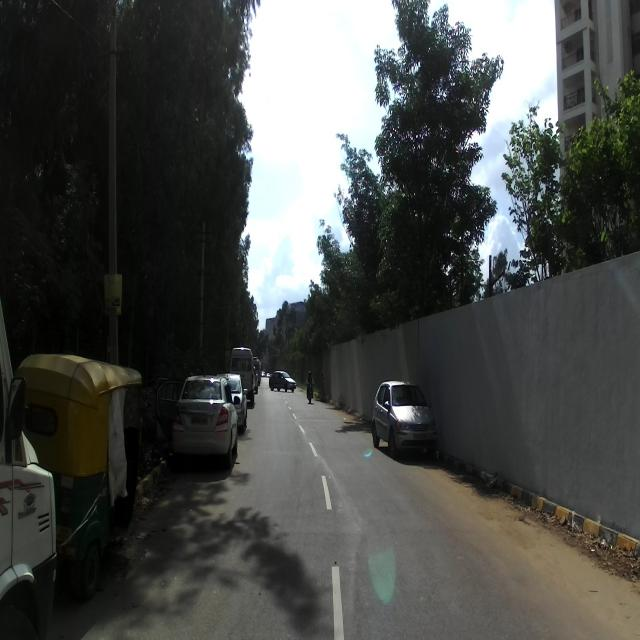Car_Maruti-Suzuki: (155, 372, 239, 468)
Car_TATA: (372, 379, 439, 463)
autorickshaw: (8, 349, 148, 597)
